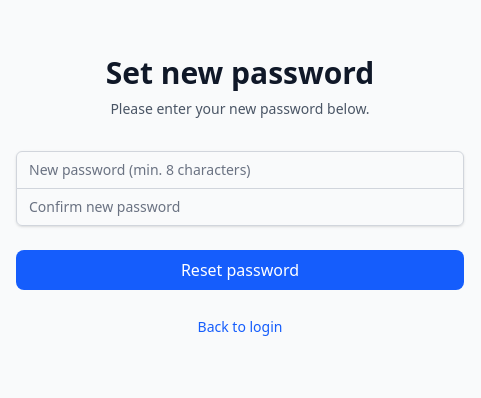
Test case: ResetPasswordPage Component › should show error message on API failure
Type "newPassword123" into the password field labelled "New password" at (240, 170), box [16,150,464,188]
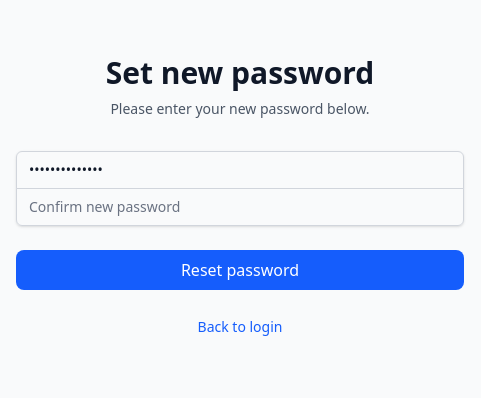
Type "newPassword123" into the password field named "Confirm Password" at (240, 206), box [16,188,464,226]
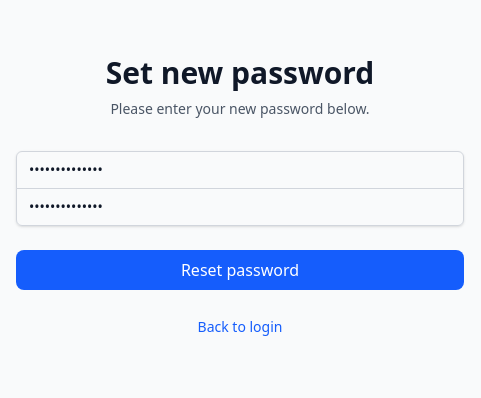
Click the button "Reset password" at (240, 270), box [16,250,464,290]
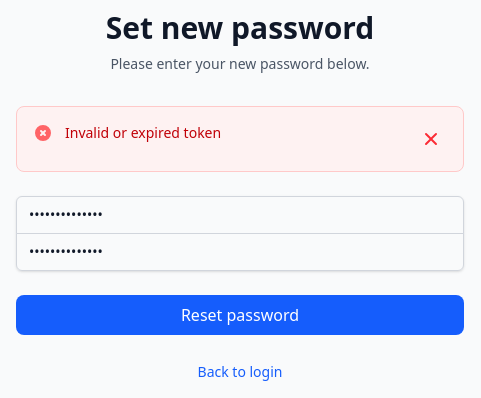
Now the text "Invalid or expired token" is shown, box [65,122,221,142]
